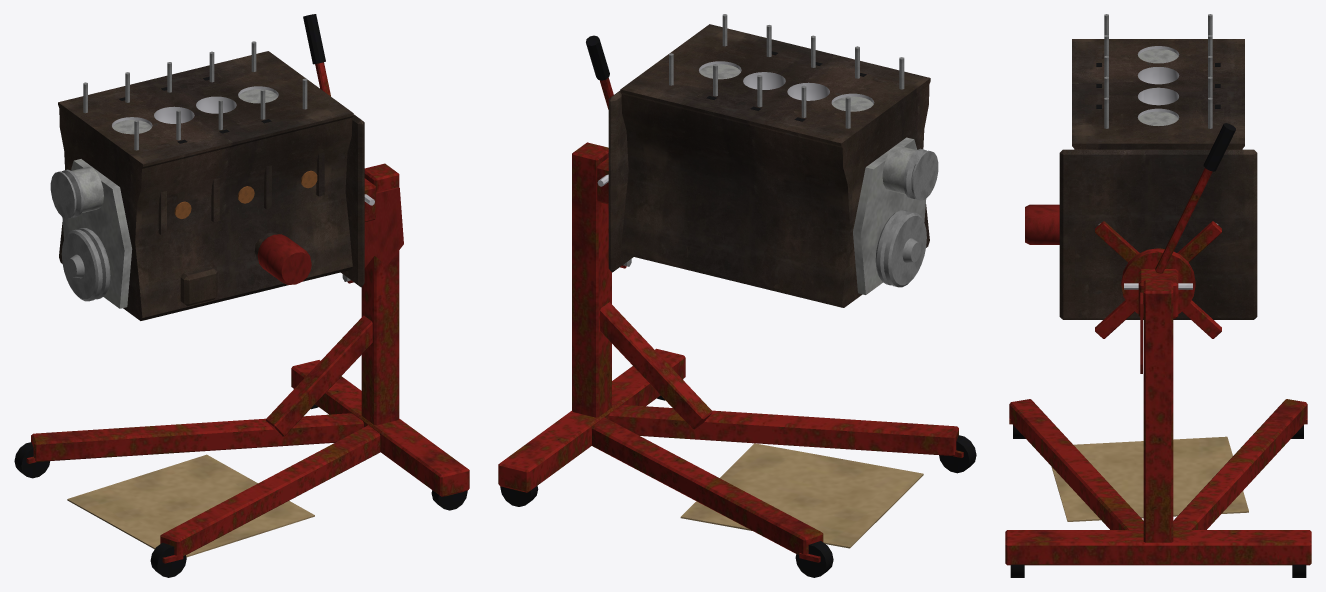
The model's file is engine-stand.glb.
3 views of the same model, side by side, from view 1: azimuth 30°, elevation 25°; view 2: azimuth 150°, elevation 25°; view 3: azimuth 270°, elevation 25° (orthographic). The views are drawn at different scales.
Parts seen in each view (by area): view 1: engine_stand; view 2: engine_stand; view 3: engine_stand.
Boxes of the visible parts, left/top/right/bottom form: engine_stand: left=14, top=14, right=469, bottom=577; engine_stand: left=498, top=14, right=976, bottom=577; engine_stand: left=1005, top=14, right=1311, bottom=577.
Size of the model in its own units: 0.79 by 0.9697 by 0.62.
Materials: 3 (3 with a texture image).
